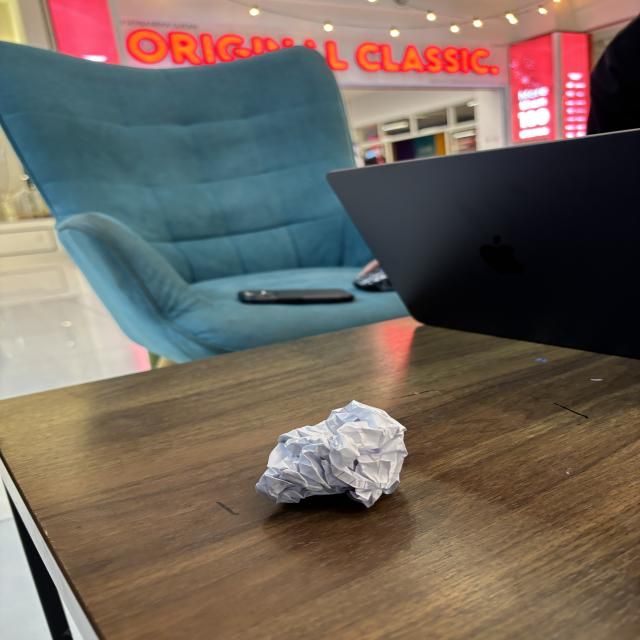crumpled_paper: (249, 392, 411, 518)
